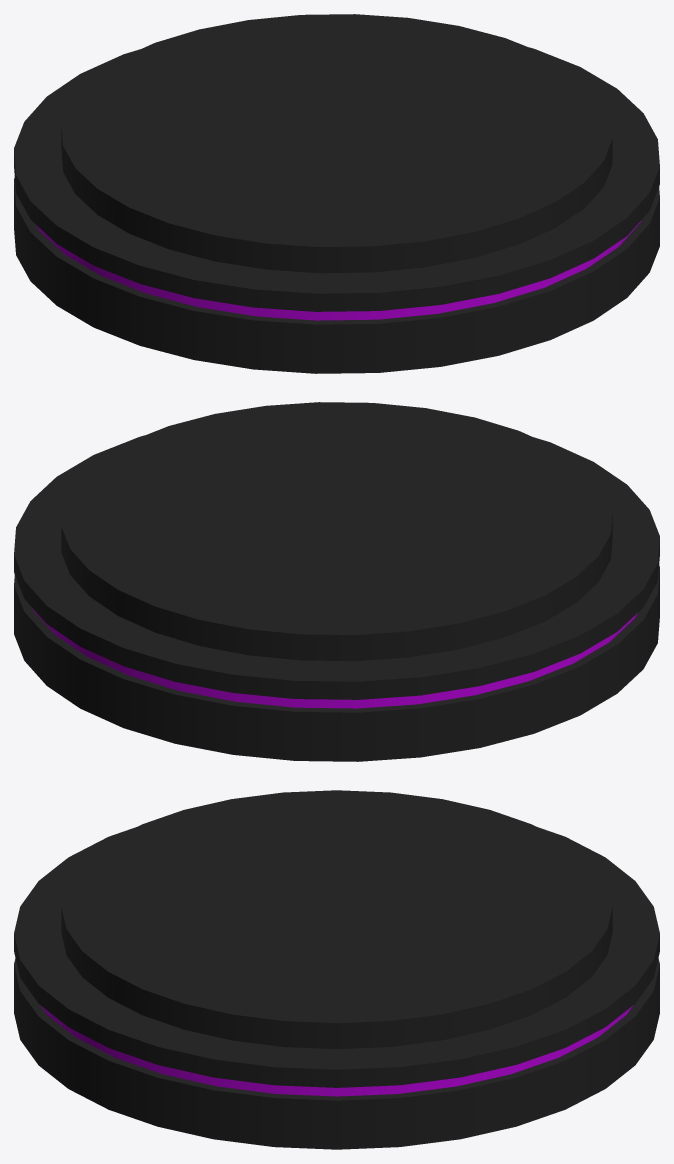
The picture shows the model from 3 angles, top to bottom: view 1: azimuth 30°, elevation 25°; view 2: azimuth 150°, elevation 25°; view 3: azimuth 270°, elevation 25°; orthographic projection.
Parts seen in each view (by area): view 1: Stage; view 2: Stage; view 3: Stage.
Part boxes in pixels (x1,y1,x2,y2): Stage: [14, 14, 659, 373]; Stage: [14, 402, 659, 761]; Stage: [14, 790, 659, 1149].
Bounding box in the file's own units: 3.04 × 0.5526 × 3.04.
